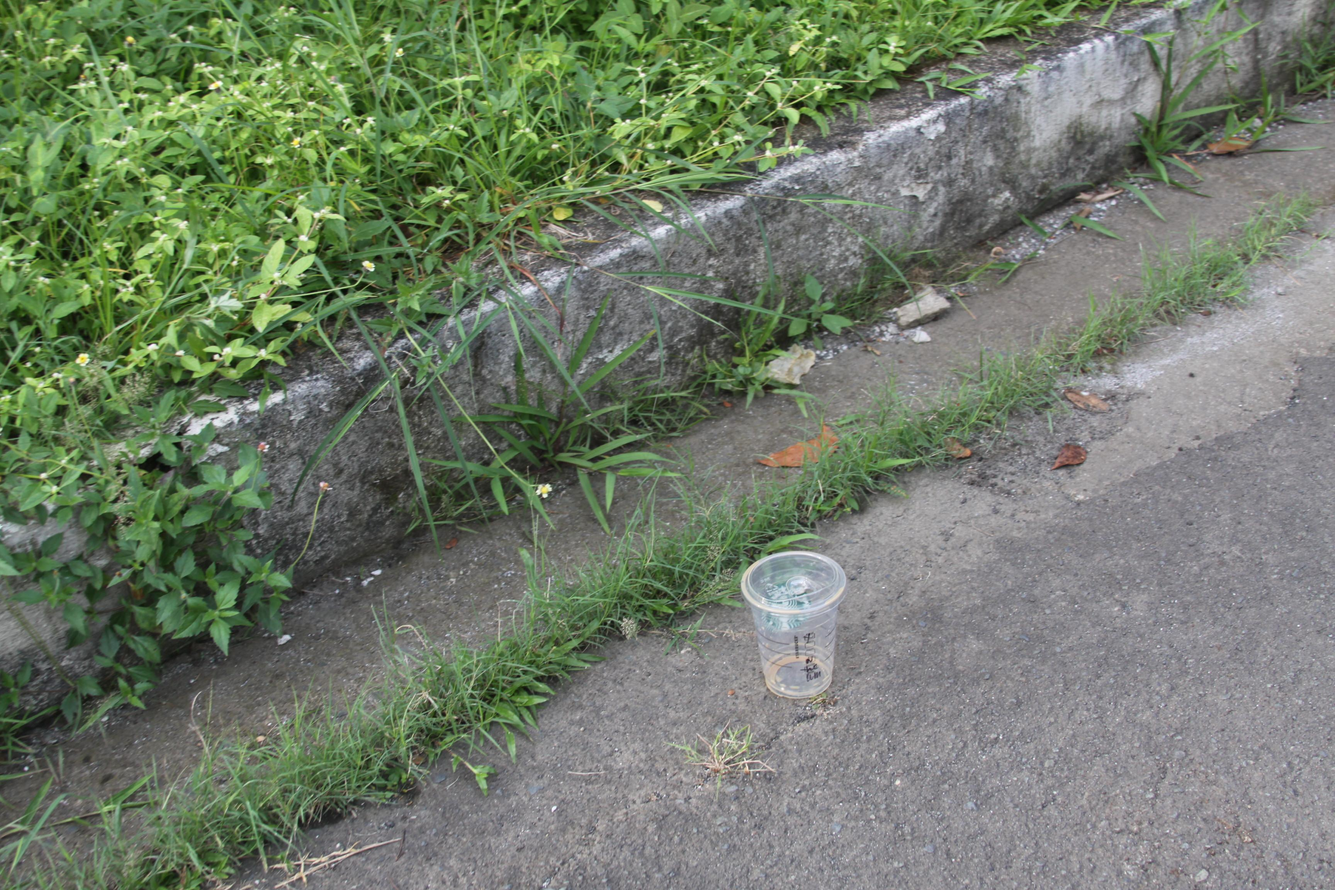Plastic: (740, 549, 848, 701)
